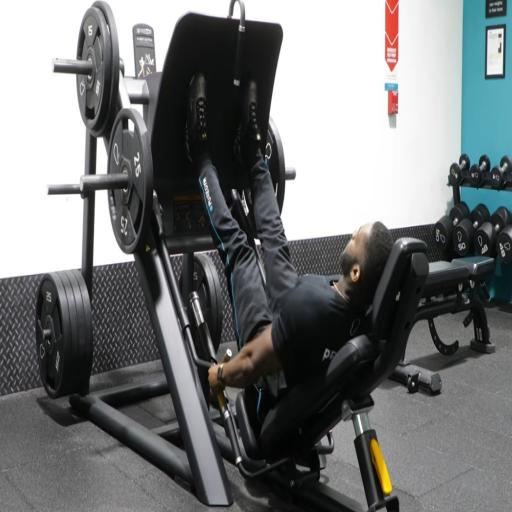Leg Press: (83, 15, 377, 464)
